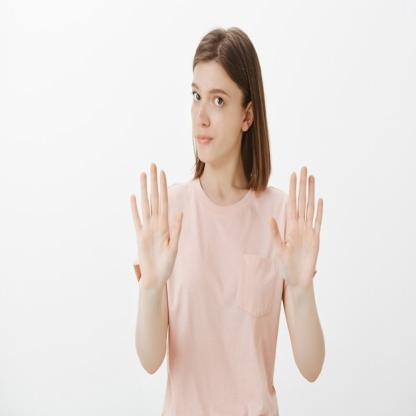stop: (268, 162, 328, 296), (128, 159, 186, 285)
